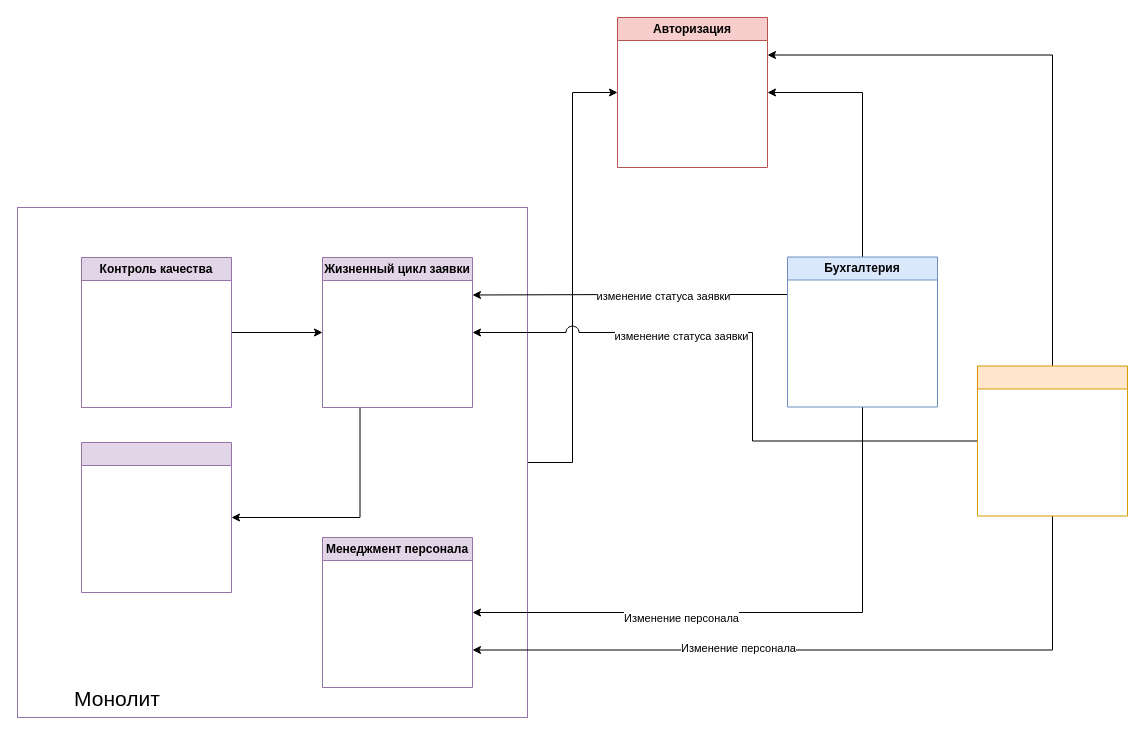
Image size: 1145x735. Some labels were removed from this diagram. Each missing label, with the box of its shape:
Расходники: (80, 442, 232, 592)
Ставки: (976, 365, 1128, 516)
